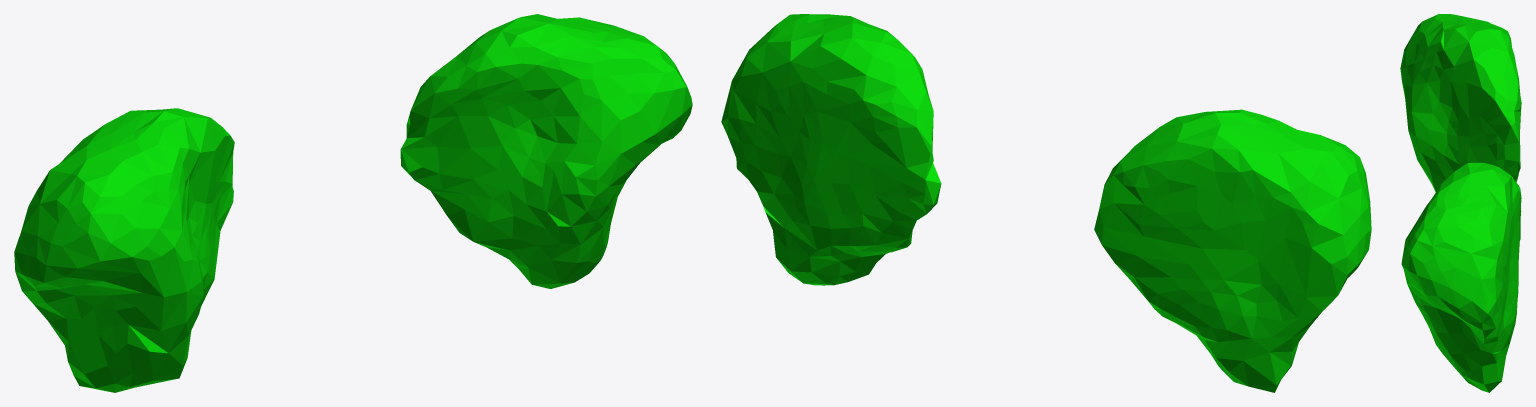
File: 6-Apul-anterior pulvinar-('0.0000', '1.0000', '0.0000').obj
3 views of the same model, side by side, from view 1: azimuth 30°, elevation 25°; view 2: azimuth 150°, elevation 25°; view 3: azimuth 270°, elevation 25° (orthographic). The views are drawn at different scales.
Bounding box in the file's own units: 135 × 54.17 × 28.86.
